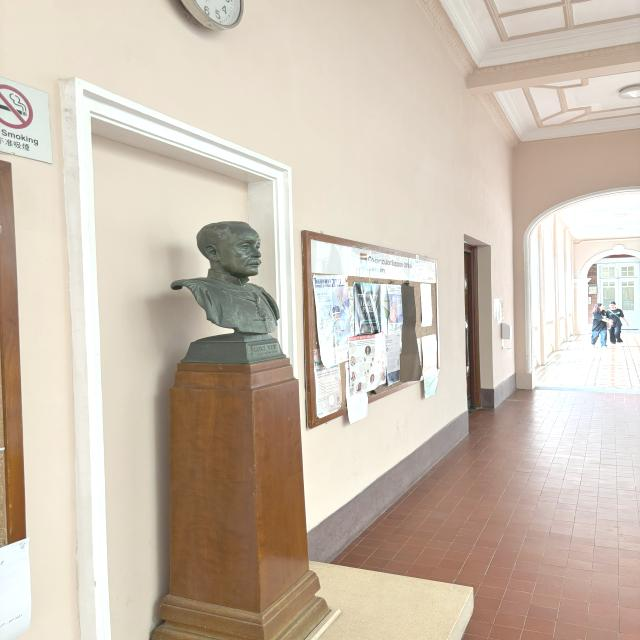loke_yew_statue: (154, 216, 286, 364)
loke_yew_statue_base: (141, 349, 337, 640)
